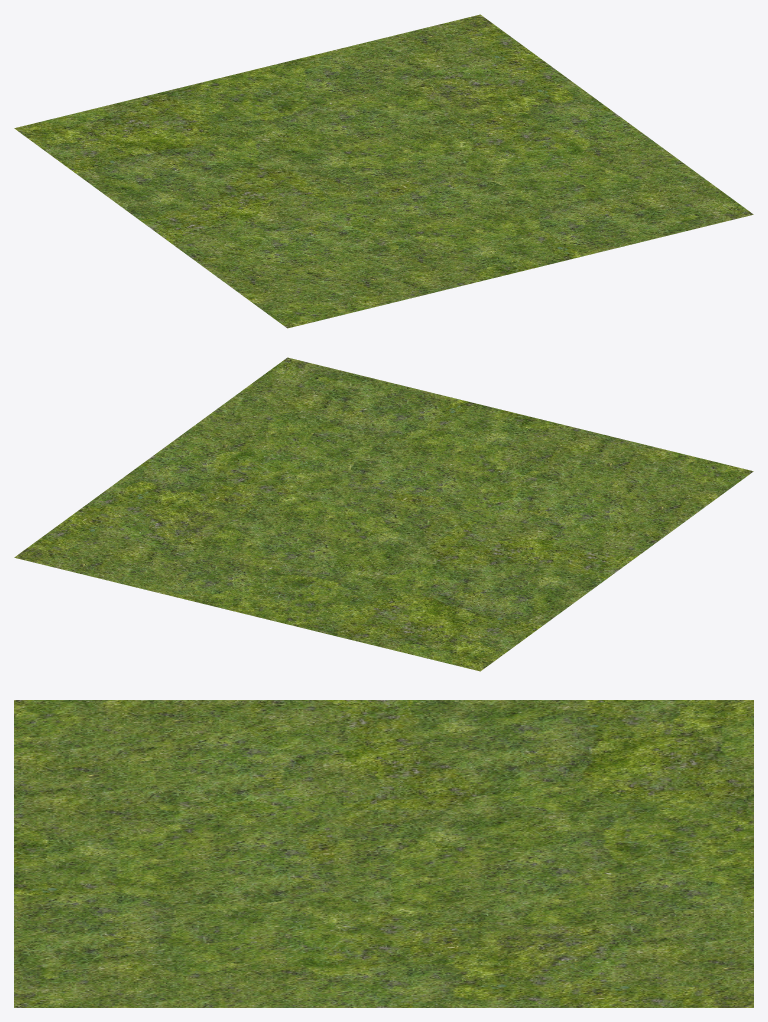
File: Piso.obj
3 views of the same model, one above another, from view 1: azimuth 30°, elevation 25°; view 2: azimuth 150°, elevation 25°; view 3: azimuth 270°, elevation 25° (orthographic). The views are drawn at different scales.
Parts seen in each view (by area): view 1: Piso1:pPlane1; view 2: Piso1:pPlane1; view 3: Piso1:pPlane1.
Boxes of the visible parts, x1=… form: Piso1:pPlane1: x1=14, y1=14, x2=753, y2=328; Piso1:pPlane1: x1=14, y1=357, x2=753, y2=671; Piso1:pPlane1: x1=14, y1=700, x2=753, y2=1007.
Bounding box in the file's own units: 272 × 0 × 276.
1 material, 1 textured.
